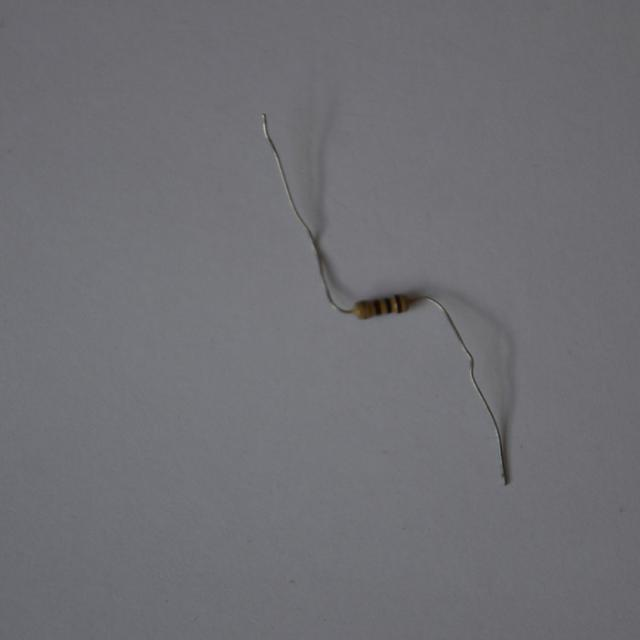black: (384, 297, 391, 312)
brown: (395, 294, 402, 311), (374, 300, 380, 314)
gold: (359, 302, 368, 318)
resistor: (345, 288, 421, 326)
